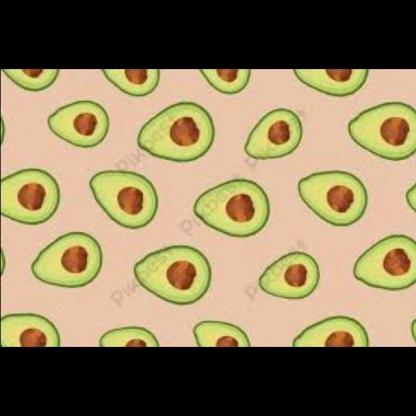avocado: (123, 90, 220, 162), (335, 80, 415, 166), (117, 239, 217, 306), (282, 156, 368, 229), (21, 230, 108, 300), (180, 172, 281, 232), (236, 247, 324, 311), (77, 166, 160, 229), (236, 104, 307, 167), (268, 306, 372, 348), (344, 233, 414, 292), (41, 96, 112, 154), (0, 166, 57, 230), (276, 70, 366, 100), (83, 70, 181, 93), (174, 320, 254, 348), (1, 316, 70, 348), (189, 70, 254, 101), (67, 327, 156, 348), (0, 69, 57, 90)
